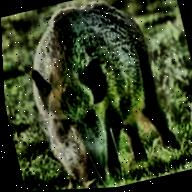boar: (13, 0, 192, 191)
